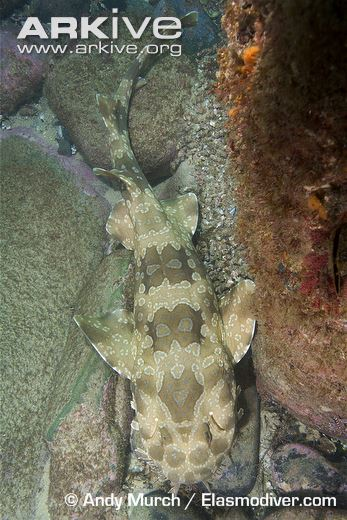shark: (46, 64, 290, 493)
